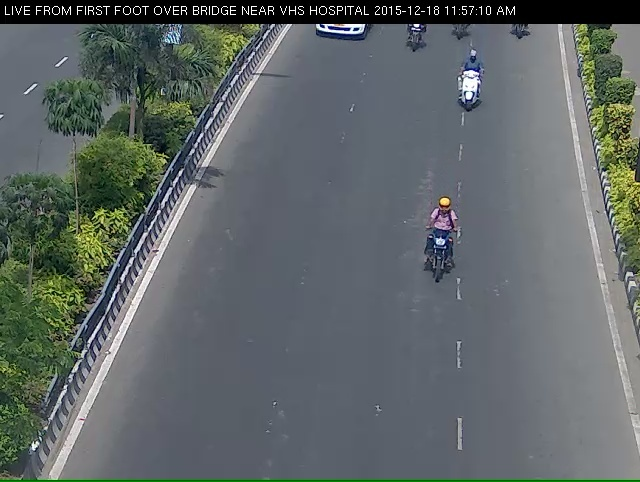Car: (305, 21, 369, 53)
Person: (418, 213, 464, 302), (456, 62, 487, 120), (400, 21, 430, 61)
